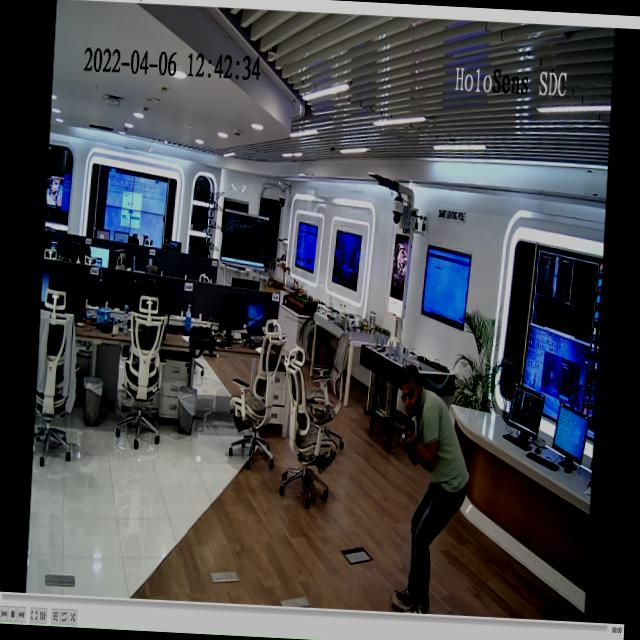long weapon: (394, 410, 422, 460)
